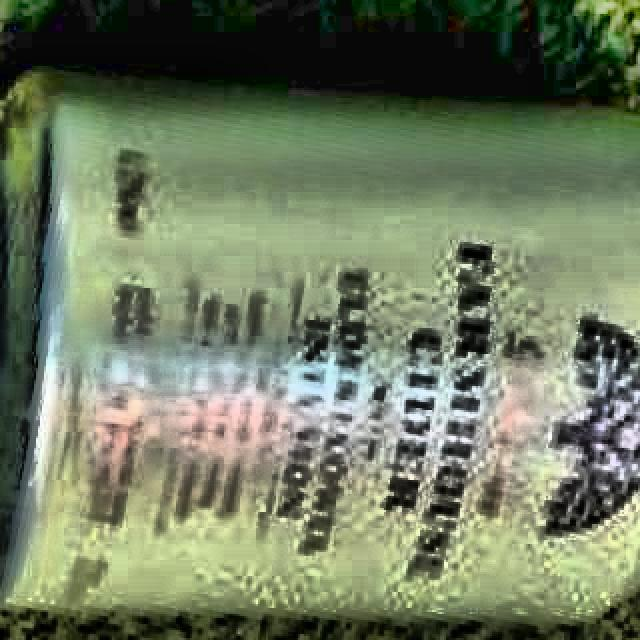metal: (0, 66, 640, 628)
